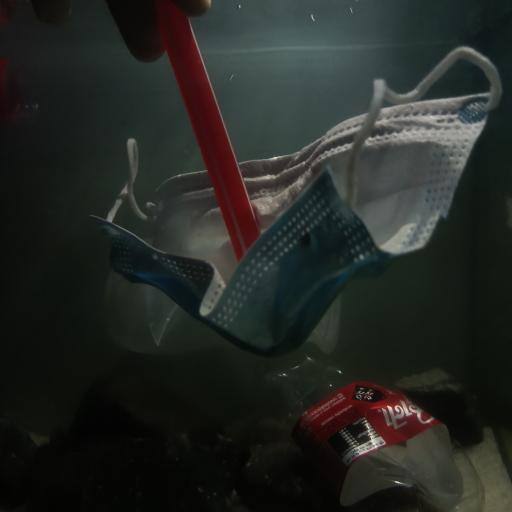mask: (92, 41, 500, 358)
plastic_bottle: (262, 353, 483, 512)
plastic_straw: (155, 0, 258, 260)
